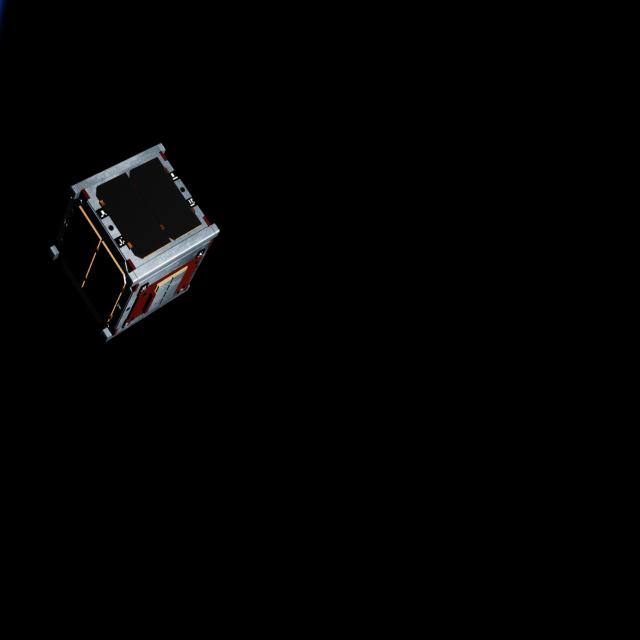satellite: (40, 134, 228, 353)
